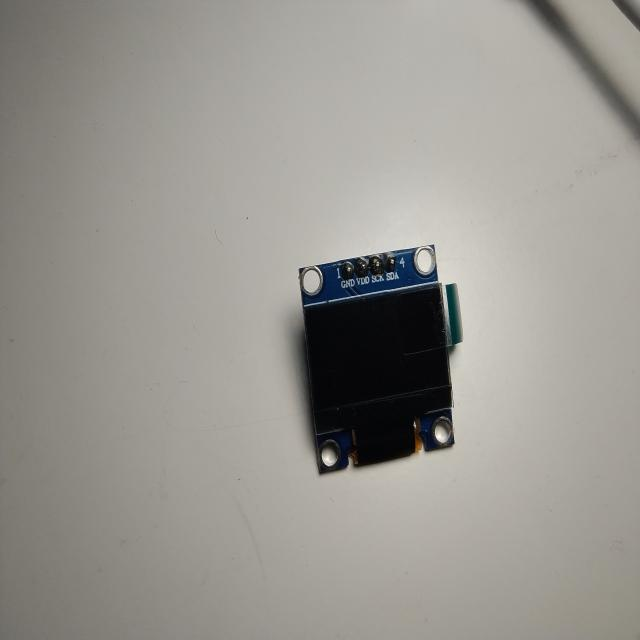oled: (296, 235, 466, 472)
